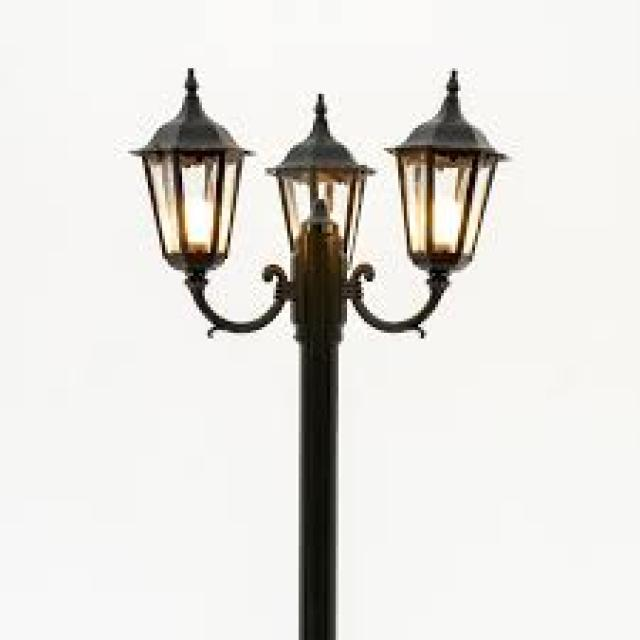Street Light: (125, 65, 512, 640)
